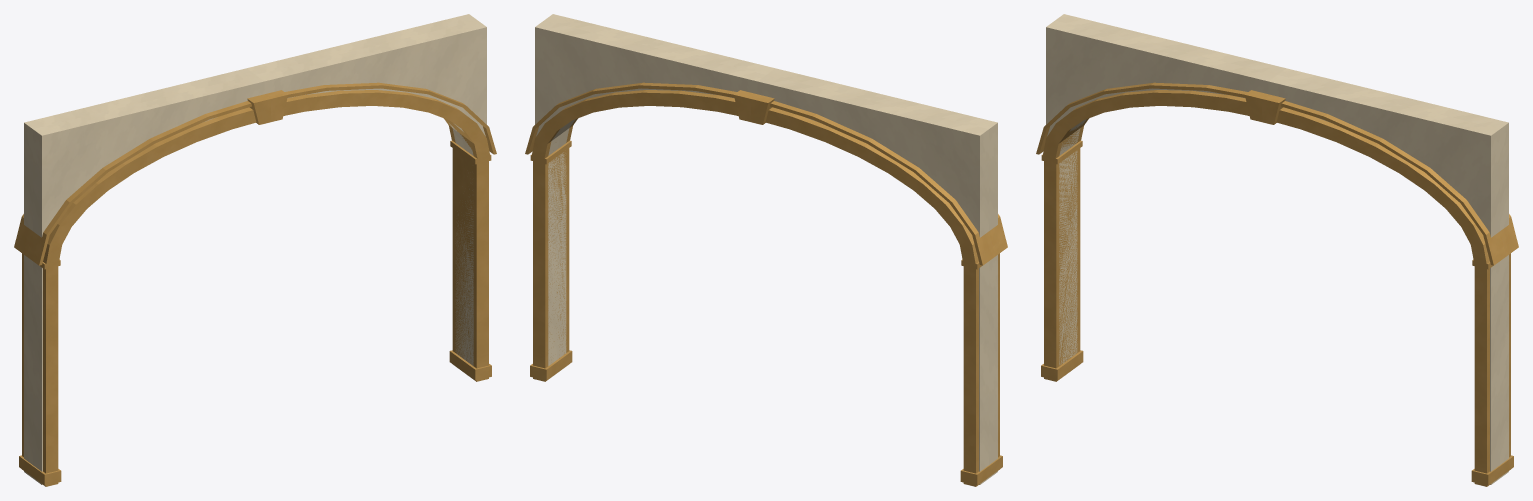
The model's file is SM_Theater_Door_Grand8.fbx.
3 views of the same model, side by side, from view 1: azimuth 30°, elevation 25°; view 2: azimuth 150°, elevation 25°; view 3: azimuth 330°, elevation 25° (orthographic).
Parts seen in each view (by area): view 1: SM_Theater_Door_Grand8_LOD0; view 2: SM_Theater_Door_Grand8_LOD0; view 3: SM_Theater_Door_Grand8_LOD0.
Part boxes in pixels (x1,y1,x2,y2): SM_Theater_Door_Grand8_LOD0: (14, 14, 496, 486); SM_Theater_Door_Grand8_LOD0: (525, 14, 1007, 486); SM_Theater_Door_Grand8_LOD0: (1036, 14, 1518, 486).
Size of what is drawn, in the model's own units: 8.23 by 6 by 0.96.
